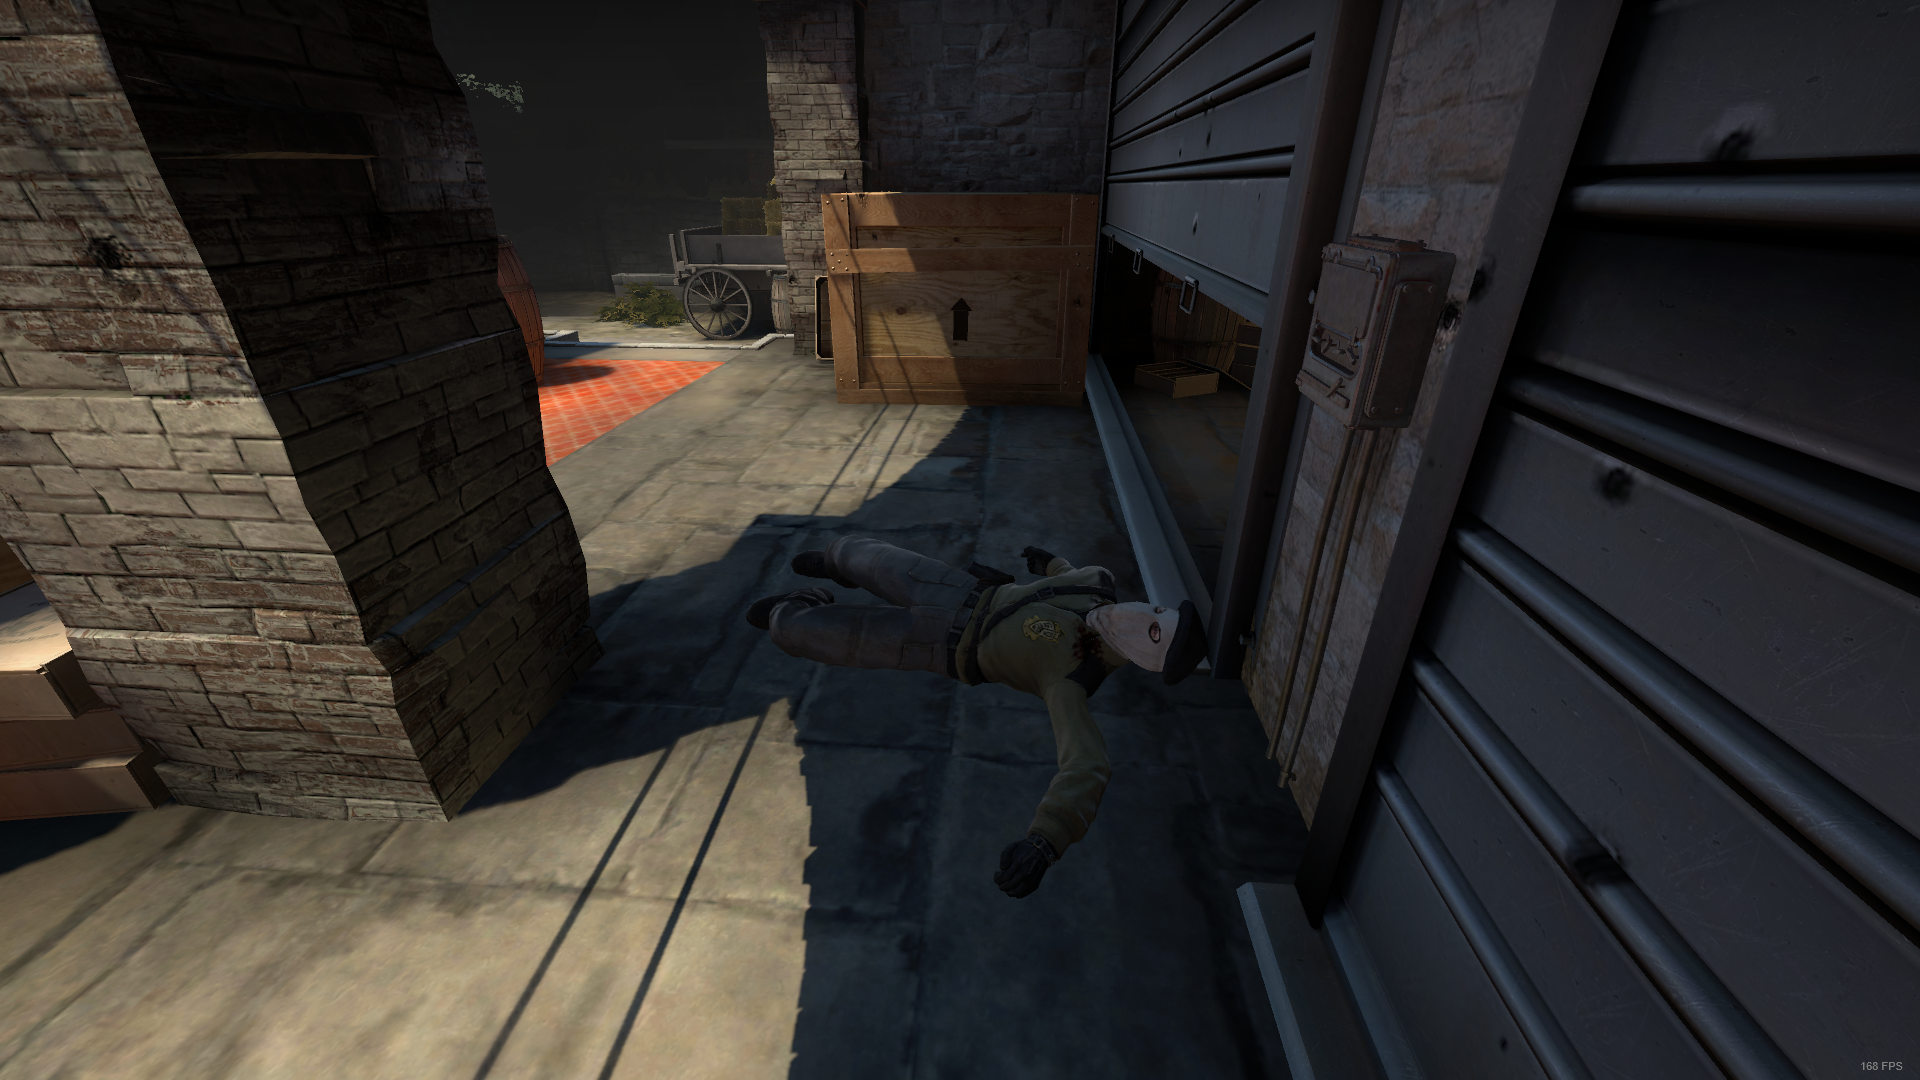t: (742, 533, 1211, 895)
